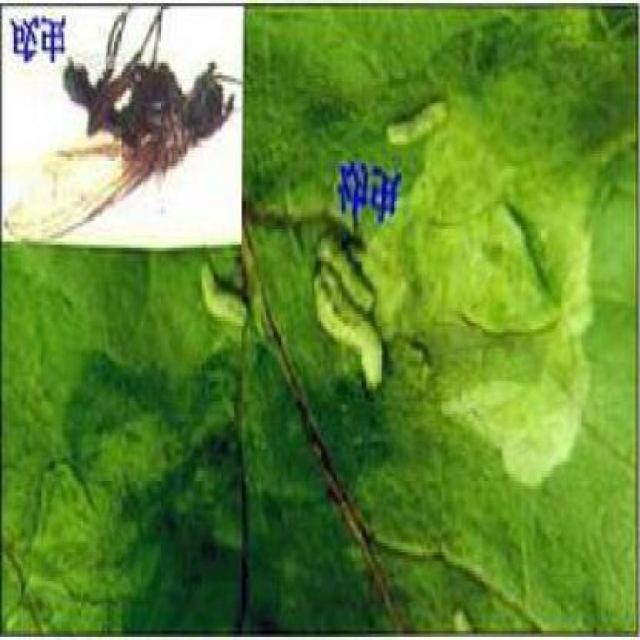whorl-maggot: (309, 226, 389, 400), (196, 254, 250, 334), (384, 96, 454, 152)
